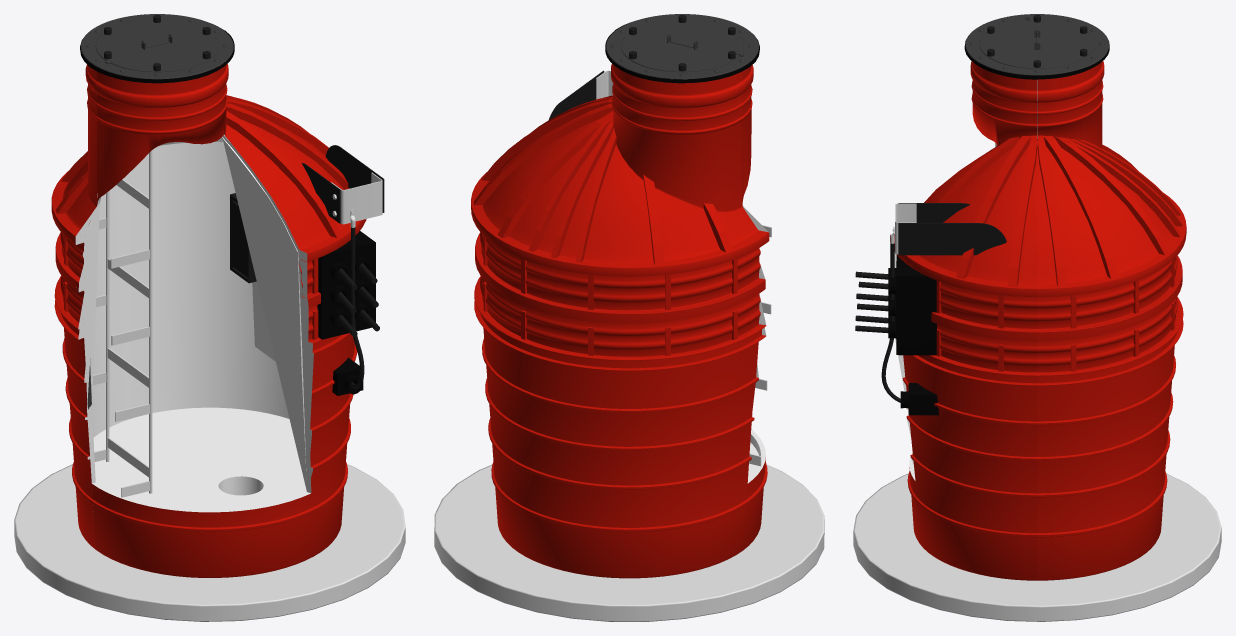
Rendered from Узел транспозиции.fbx.
3 views of the same model, side by side, from view 1: azimuth 30°, elevation 25°; view 2: azimuth 150°, elevation 25°; view 3: azimuth 270°, elevation 25° (orthographic). The views are drawn at different scales.
Visible parts, largest first — view 1: Cylinder.076, Cylinder.092, Цилиндр.418, Цилиндр.426, Цилиндр.419, Куб.170, Цилиндр.364, Cube.024, Cube.023, Цилиндр.367, Куб.172, Плоскость.043 (+2 smaller); view 2: Cylinder.092, Цилиндр.418, Куб.172, Цилиндр.426, Cylinder.076, Cube.032, Cube.024; view 3: Cylinder.092, Cylinder.076, Цилиндр.418, Куб.172, Цилиндр.426, Куб.170, Cube.024, Цилиндр.364, Cube.032, Цилиндр.403, Cube.033, BezierCurve.012 (+1 smaller).
Boxes of the visible parts, box(x1,y1,x2,y2) form: Cylinder.076: box(72, 30, 366, 577); Cylinder.092: box(51, 24, 294, 549); Цилиндр.418: box(14, 464, 405, 621); Цилиндр.426: box(80, 14, 233, 79); Цилиндр.419: box(92, 150, 152, 497); Куб.170: box(226, 99, 349, 237); Цилиндр.364: box(317, 231, 375, 339); Cube.024: box(301, 145, 384, 223); Cube.023: box(331, 172, 382, 224); Цилиндр.367: box(232, 196, 256, 283); Куб.172: box(55, 95, 308, 213); Плоскость.043: box(252, 281, 275, 361); Cylinder.092: box(471, 30, 766, 578); Цилиндр.418: box(434, 465, 824, 621); Куб.172: box(474, 99, 732, 265); Цилиндр.426: box(606, 14, 758, 79); Cylinder.076: box(615, 22, 769, 550); Cube.032: box(483, 236, 737, 355); Cube.024: box(549, 70, 604, 119); Cylinder.092: box(1037, 40, 1186, 580); Cylinder.076: box(890, 39, 1037, 580); Цилиндр.418: box(853, 473, 1221, 621); Куб.172: box(1037, 135, 1182, 287); Цилиндр.426: box(965, 14, 1109, 75); Куб.170: box(938, 135, 1037, 287); Cube.024: box(898, 203, 1006, 255); Цилиндр.364: box(896, 255, 936, 355); Cube.032: box(1070, 259, 1174, 371); Цилиндр.403: box(908, 383, 938, 415); Cube.033: box(936, 280, 1003, 371); BezierCurve.012: box(881, 243, 900, 402).
Size of the model in its own units: 198 by 287 by 198.
